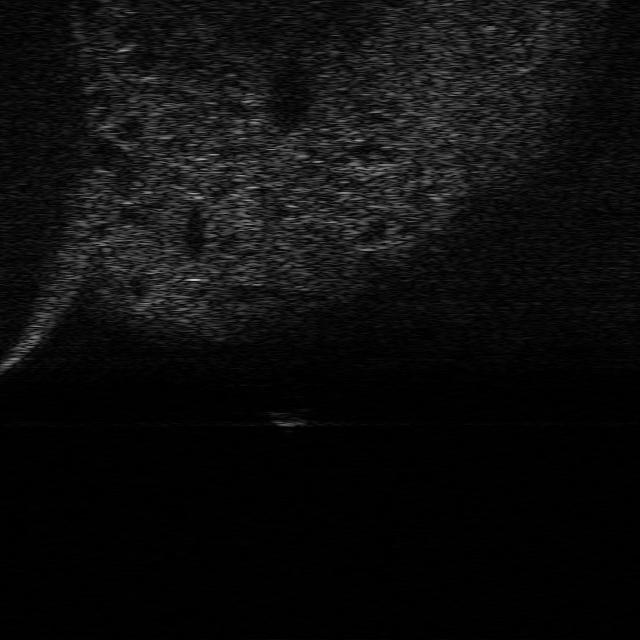cube: (268, 410, 314, 427)
